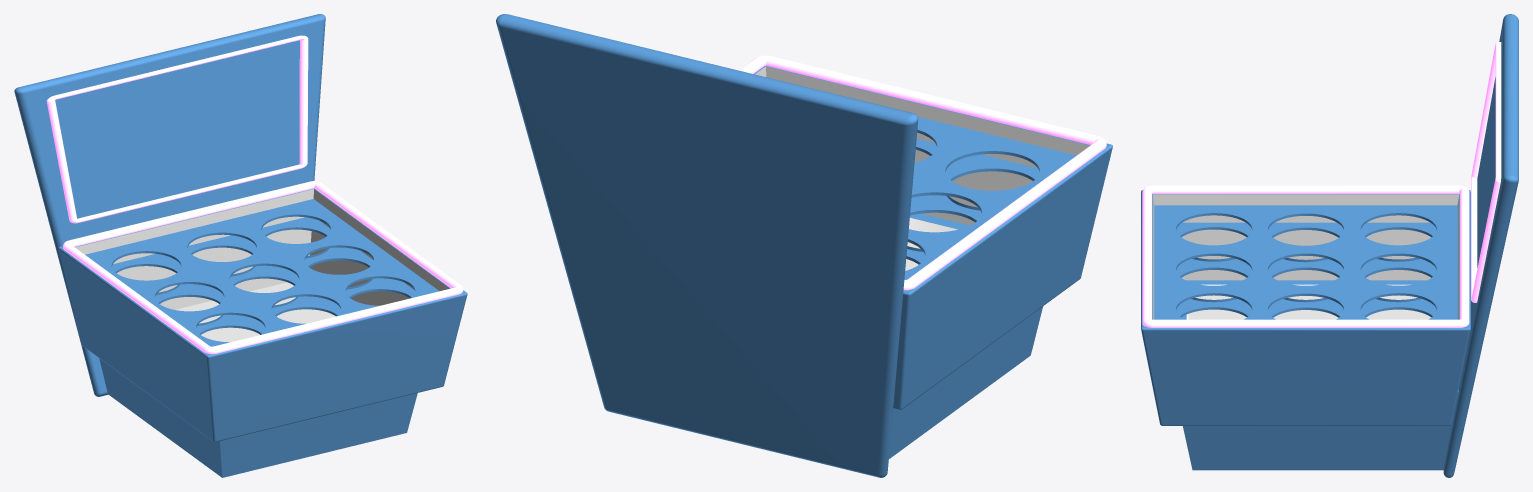
File: game-board.gltf
3 views of the same model, side by side, from view 1: azimuth 30°, elevation 25°; view 2: azimuth 150°, elevation 25°; view 3: azimuth 270°, elevation 25° (orthographic). The views are drawn at different scales.
Parts seen in each view (by area): view 1: Null; view 2: Null; view 3: Null.
Boxes of the visible parts, left/top/right/bottom form: Null: left=14, top=14, right=467, bottom=477; Null: left=496, top=14, right=1112, bottom=477; Null: left=1141, top=14, right=1518, bottom=477.
Size of the model in its own units: 1.41 by 1.31 by 1.36.
